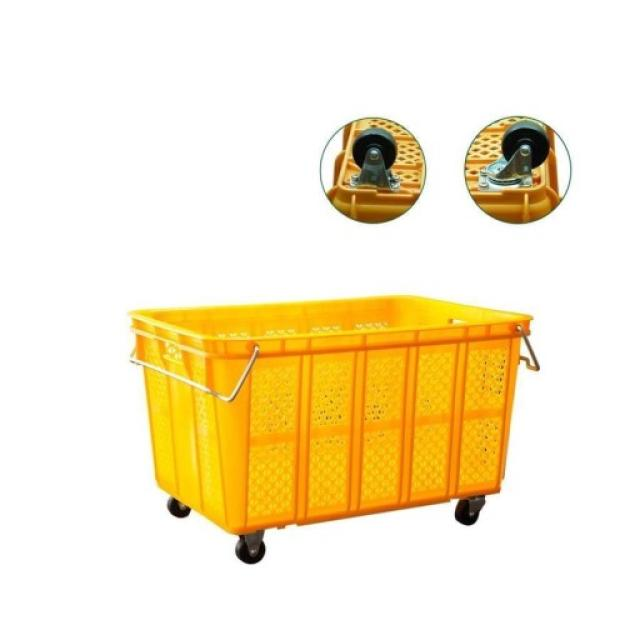basket: (133, 295, 536, 565)
